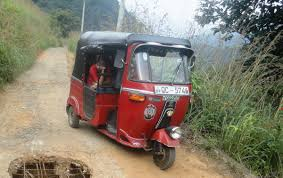tuk tuk: (66, 29, 196, 171)
